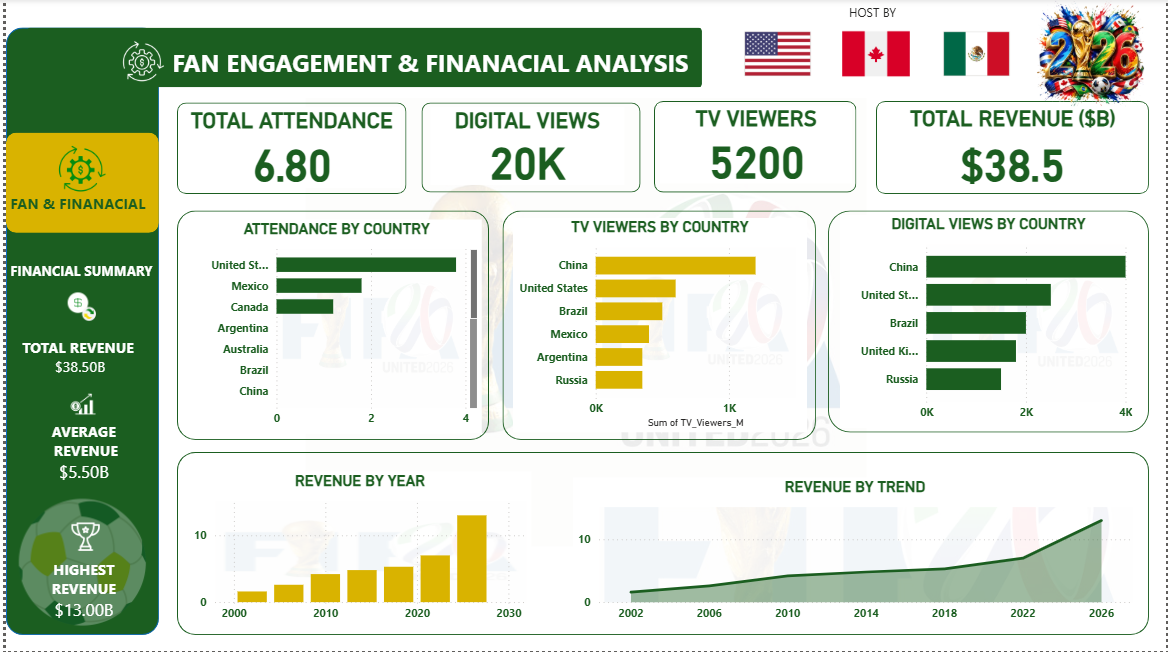

What the dashboard file says about the page in this screenshot:
{"tool":"powerbi","page":{"name":"Fan Engagement & Finanacial Analysis","canvas":[1280,720],"ordinal":3},"visuals":[{"type":"shape","box":[0,31.5,169,670.9],"z":0},{"type":"image","box":[0,551.6,169,140.8],"z":1000},{"type":"shape","box":[0,147.4,169,111],"z":2000},{"type":"shape","box":[458.8,114.3,241.8,99.4],"z":3000},{"type":"shape","box":[548.3,233.6,346.2,253.4],"z":4000},{"type":"shape","box":[188.8,233.6,344.5,253.4],"z":5000},{"type":"shape","box":[960.8,112.6,301.5,102.7],"z":6000},{"type":"shape","box":[715.6,112.6,223.6,101],"z":7000},{"type":"card","title":"DIGITAL VIEWS","fields":{"Values":["Measures (2).Total Digital Views"]},"box":[468.8,119.3,213.7,86.1],"z":8000},{"type":"shape","box":[188.8,114.3,253.4,101],"z":9000},{"type":"card","title":"TOTAL ATTENDANCE","fields":{"Values":["Measures (2).Total Attendance"]},"box":[195.5,119.3,240.2,89.4],"z":10000},{"type":"shape","box":[907.8,233.6,354.5,245.2],"z":11000},{"type":"shape","box":[188.8,500.3,1073.4,202.1],"z":12000},{"type":"shape","box":[23.2,31.5,745.4,66.3],"z":13000},{"type":"textbox","box":[169,46.4,599.6,51.4],"z":14000},{"type":"card","title":"TV VIEWERS","fields":{"Values":["Measures (2).Total TV Viewers"]},"box":[722.2,117.6,212,86.1],"z":15000},{"type":"clusteredBarChart","title":"TV VIEWERS BY COUNTRY","fields":{"Category":["Fact_FanEngagement.Country"],"Y":["Sum(Fact_FanEngagement.TV_Viewers_M)"]},"box":[559.9,241.8,324.7,236.9],"z":16000},{"type":"clusteredBarChart","title":"DIGITAL  VIEWS BY COUNTRY","fields":{"Category":["Fact_FanEngagement.Country"],"Y":["Sum(Fact_FanEngagement.Digital_Views_M)"]},"box":[921,238.5,328,235.2],"z":17000},{"type":"clusteredColumnChart","title":"REVENUE BY YEAR","fields":{"Category":["Fact_FinancialImpact.Year"],"Y":["Sum(Fact_FinancialImpact.Revenue_Billions)"]},"box":[202.1,521.8,377.7,173.9],"z":18000},{"type":"lineChart","title":"REVENUE BY TREND","fields":{"Category":["Fact_FinancialImpact.Year"],"Y":["Sum(Fact_FinancialImpact.Revenue_Billions)"]},"box":[626.1,528.4,622.8,167.3],"z":19000},{"type":"clusteredBarChart","title":"ATTENDANCE BY COUNTRY","fields":{"Y":["Sum(Fact_FanEngagement.Attendance_M)"],"Category":["Fact_FanEngagement.Country"]},"box":[205.4,243.5,319.7,236.9],"z":20000},{"type":"card","title":"TOTAL REVENUE ($B)","fields":{"Values":["Measures (2).Total Revenue"]},"box":[974,117.6,275,92.8],"z":21000},{"type":"image","box":[1114.8,0,165.6,122.6],"z":22000},{"type":"image","box":[101,44.7,101,48],"z":23000},{"type":"textbox","box":[0,208.7,167.3,34.8],"z":25000},{"type":"image","box":[11.6,160.7,145.8,54.7],"z":26000},{"type":"textbox","box":[0,284.9,169,49.7],"z":27000},{"type":"textbox","box":[9.9,367.7,144.1,79.5],"z":28000},{"type":"textbox","box":[11.6,460.5,149.1,77.9],"z":29000},{"type":"textbox","box":[14.9,612.9,142.5,79.5],"z":30000},{"type":"image","box":[66.3,432.3,38.1,29.8],"z":31000},{"type":"image","box":[49.7,323,67.9,33.1],"z":32000},{"type":"image","box":[66.3,578.1,43.1,31.5],"z":33000}]}

Visuals, with their boxes in screenshot pixels (x1, y1, x2, y2), scaled from the page's 1280x720 canvas onto the 1168x652 screenshot:
shape: [x1=0, y1=29, x2=154, y2=636]
image: [x1=0, y1=500, x2=154, y2=627]
shape: [x1=0, y1=133, x2=154, y2=234]
shape: [x1=419, y1=104, x2=639, y2=194]
shape: [x1=500, y1=212, x2=816, y2=441]
shape: [x1=172, y1=212, x2=487, y2=441]
shape: [x1=877, y1=102, x2=1152, y2=195]
shape: [x1=653, y1=102, x2=857, y2=193]
"DIGITAL VIEWS" card: [x1=428, y1=108, x2=623, y2=186]
shape: [x1=172, y1=104, x2=404, y2=195]
"TOTAL ATTENDANCE" card: [x1=178, y1=108, x2=398, y2=189]
shape: [x1=828, y1=212, x2=1152, y2=434]
shape: [x1=172, y1=453, x2=1152, y2=636]
shape: [x1=21, y1=29, x2=701, y2=89]
textbox: [x1=154, y1=42, x2=701, y2=89]
"TV VIEWERS" card: [x1=659, y1=106, x2=852, y2=184]
"TV VIEWERS BY COUNTRY" clusteredBarChart: [x1=511, y1=219, x2=807, y2=433]
"DIGITAL  VIEWS BY COUNTRY" clusteredBarChart: [x1=840, y1=216, x2=1140, y2=429]
"REVENUE BY YEAR" clusteredColumnChart: [x1=184, y1=473, x2=529, y2=630]
"REVENUE BY TREND" lineChart: [x1=571, y1=478, x2=1140, y2=630]
"ATTENDANCE BY COUNTRY" clusteredBarChart: [x1=187, y1=221, x2=479, y2=435]
"TOTAL REVENUE ($B)" card: [x1=889, y1=106, x2=1140, y2=191]
image: [x1=1017, y1=0, x2=1167, y2=111]
image: [x1=92, y1=40, x2=184, y2=84]
textbox: [x1=0, y1=189, x2=153, y2=221]
image: [x1=11, y1=146, x2=144, y2=195]
textbox: [x1=0, y1=258, x2=154, y2=303]
textbox: [x1=9, y1=333, x2=141, y2=405]
textbox: [x1=11, y1=417, x2=147, y2=488]
textbox: [x1=14, y1=555, x2=144, y2=627]
image: [x1=60, y1=391, x2=95, y2=418]
image: [x1=45, y1=292, x2=107, y2=322]
image: [x1=60, y1=524, x2=100, y2=552]
